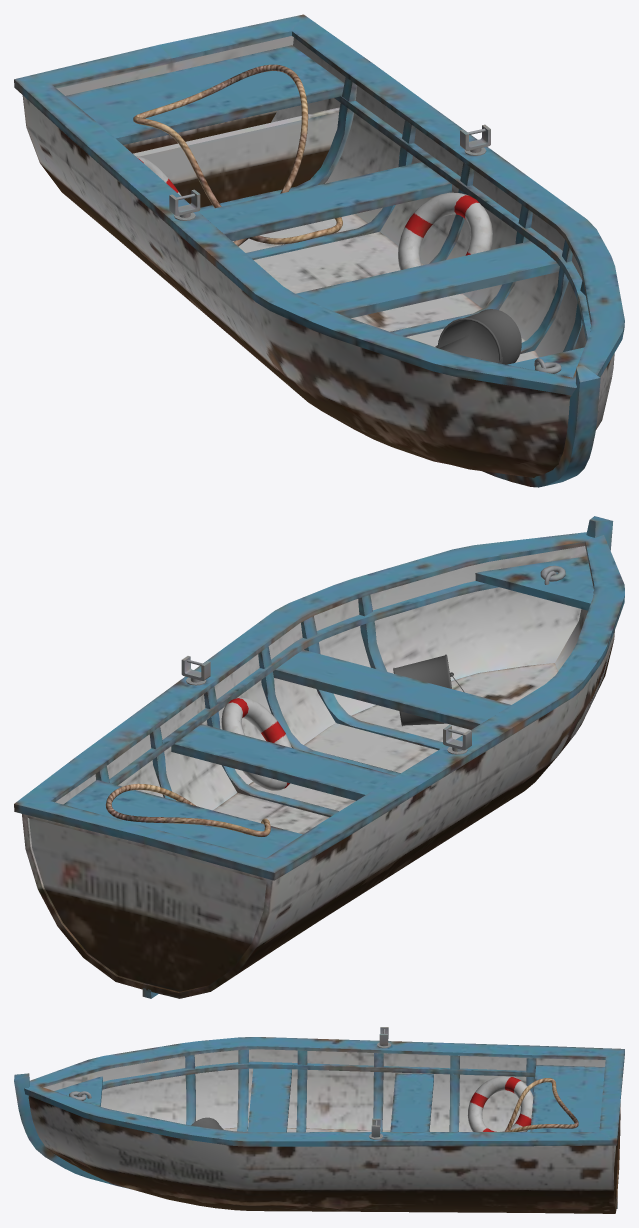
The model's file is boat_huri.glb.
3 renders of one model, top to bottom at view 1: azimuth 30°, elevation 25°; view 2: azimuth 150°, elevation 25°; view 3: azimuth 270°, elevation 25°, orthographic. The views are drawn at different scales.
Visible parts, largest first — view 1: Boat_Outside_LP_UV_Map_Boat_0, Sit_Back_LP_UV_Map_Boat_0, LowerPart_Sit_Back_LP_UV_Map_Boat_0, Floor_LP_UV_Map_Boat_0, Sit_Front_LP_UV_Map_Boat_0, Sit_Middle_LP_UV_Map_Boat_0, Frame_Inside_LP_UV_Map_Boat_0, Frame_Around_Inside_LP_UV_Map_Boat_0, Rope_LP_UV_Map_Boat_0, Frame_Outside_LP_UV_Map_Boat_0, Circle_LP.001_Torus_0, Bucket_LP_Bucket_0 (+2 smaller); view 2: Boat_Outside_LP_UV_Map_Boat_0, Floor_LP_UV_Map_Boat_0, Sit_Front_LP_UV_Map_Boat_0, Sit_Middle_LP_UV_Map_Boat_0, Frame_Inside_LP_UV_Map_Boat_0, Sit_Back_LP_UV_Map_Boat_0, Frame_Around_Inside_LP_UV_Map_Boat_0, Boat_Front_LP_UV_Map_Boat_0, Circle_LP.001_Torus_0, Rope_LP_UV_Map_Boat_0, Bucket_LP_Bucket_0, Handle_Pedal_LP_UV_Map_Boat_0; view 3: Boat_Outside_LP_UV_Map_Boat_0, Sit_Back_LP_UV_Map_Boat_0, Frame_Inside_LP_UV_Map_Boat_0, Frame_Around_Inside_LP_UV_Map_Boat_0, Sit_Front_LP_UV_Map_Boat_0, Sit_Middle_LP_UV_Map_Boat_0, Circle_LP_Torus_0, Frame_Outside_LP_UV_Map_Boat_0, Rope_LP_UV_Map_Boat_0, Boat_Front_LP_UV_Map_Boat_0, Handle_Pedal_LP_UV_Map_Boat_0, Floor_LP_UV_Map_Boat_0.
Part boxes in pixels (bbox=[...]): Boat_Outside_LP_UV_Map_Boat_0: bbox=[14, 14, 624, 477]; Sit_Back_LP_UV_Map_Boat_0: bbox=[66, 45, 344, 144]; LowerPart_Sit_Back_LP_UV_Map_Boat_0: bbox=[133, 107, 339, 207]; Floor_LP_UV_Map_Boat_0: bbox=[232, 214, 538, 362]; Sit_Front_LP_UV_Map_Boat_0: bbox=[295, 241, 559, 318]; Sit_Middle_LP_UV_Map_Boat_0: bbox=[199, 162, 451, 241]; Frame_Inside_LP_UV_Map_Boat_0: bbox=[198, 77, 585, 354]; Frame_Around_Inside_LP_UV_Map_Boat_0: bbox=[334, 96, 590, 340]; Rope_LP_UV_Map_Boat_0: bbox=[133, 64, 342, 246]; Frame_Outside_LP_UV_Map_Boat_0: bbox=[482, 365, 600, 487]; Circle_LP.001_Torus_0: bbox=[398, 192, 492, 270]; Bucket_LP_Bucket_0: bbox=[437, 309, 521, 364]; Boat_Outside_LP_UV_Map_Boat_0: bbox=[14, 532, 624, 998]; Floor_LP_UV_Map_Boat_0: bbox=[213, 663, 558, 834]; Sit_Front_LP_UV_Map_Boat_0: bbox=[273, 650, 510, 729]; Sit_Middle_LP_UV_Map_Boat_0: bbox=[171, 724, 396, 800]; Frame_Inside_LP_UV_Map_Boat_0: bbox=[95, 595, 445, 817]; Sit_Back_LP_UV_Map_Boat_0: bbox=[63, 780, 302, 857]; Frame_Around_Inside_LP_UV_Map_Boat_0: bbox=[109, 581, 498, 785]; Boat_Front_LP_UV_Map_Boat_0: bbox=[475, 556, 593, 610]; Circle_LP.001_Torus_0: bbox=[221, 697, 291, 790]; Rope_LP_UV_Map_Boat_0: bbox=[105, 783, 270, 836]; Bucket_LP_Bucket_0: bbox=[393, 654, 451, 726]; Handle_Pedal_LP_UV_Map_Boat_0: bbox=[181, 656, 471, 754]; Boat_Outside_LP_UV_Map_Boat_0: bbox=[24, 1037, 624, 1213]; Sit_Back_LP_UV_Map_Boat_0: bbox=[530, 1065, 604, 1132]; Frame_Inside_LP_UV_Map_Boat_0: bbox=[185, 1049, 536, 1132]; Frame_Around_Inside_LP_UV_Map_Boat_0: bbox=[102, 1061, 535, 1089]; Sit_Front_LP_UV_Map_Boat_0: bbox=[247, 1068, 291, 1132]; Sit_Middle_LP_UV_Map_Boat_0: bbox=[390, 1073, 433, 1131]; Circle_LP_Torus_0: bbox=[467, 1076, 533, 1131]; Frame_Outside_LP_UV_Map_Boat_0: bbox=[14, 1073, 617, 1208]; Rope_LP_UV_Map_Boat_0: bbox=[504, 1078, 578, 1131]; Boat_Front_LP_UV_Map_Boat_0: bbox=[54, 1076, 102, 1106]; Handle_Pedal_LP_UV_Map_Boat_0: bbox=[369, 1027, 391, 1139]; Floor_LP_UV_Map_Boat_0: bbox=[223, 1127, 390, 1132].
Size of the model in its own units: 3.04 by 1.72 by 7.5.
3 materials, 3 textured.
